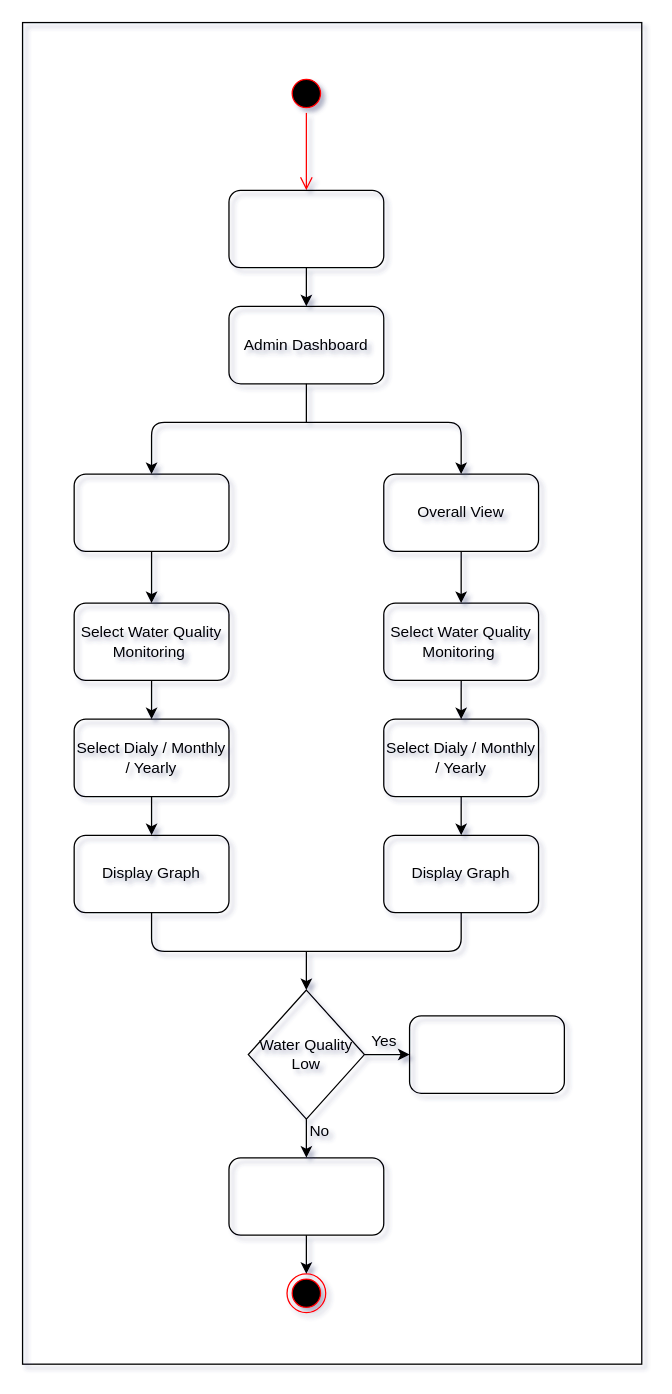
Image size: 672x1394. Some labels were removed from this diagram. Each missing label, with the centre of its shape:
"Admin Login" goes at [306,228].
"Logout" goes at [306,1195].
"Reinitiate The Seawage Treatment" goes at [486,1054].
"Select Tenant" goes at [151,512].
